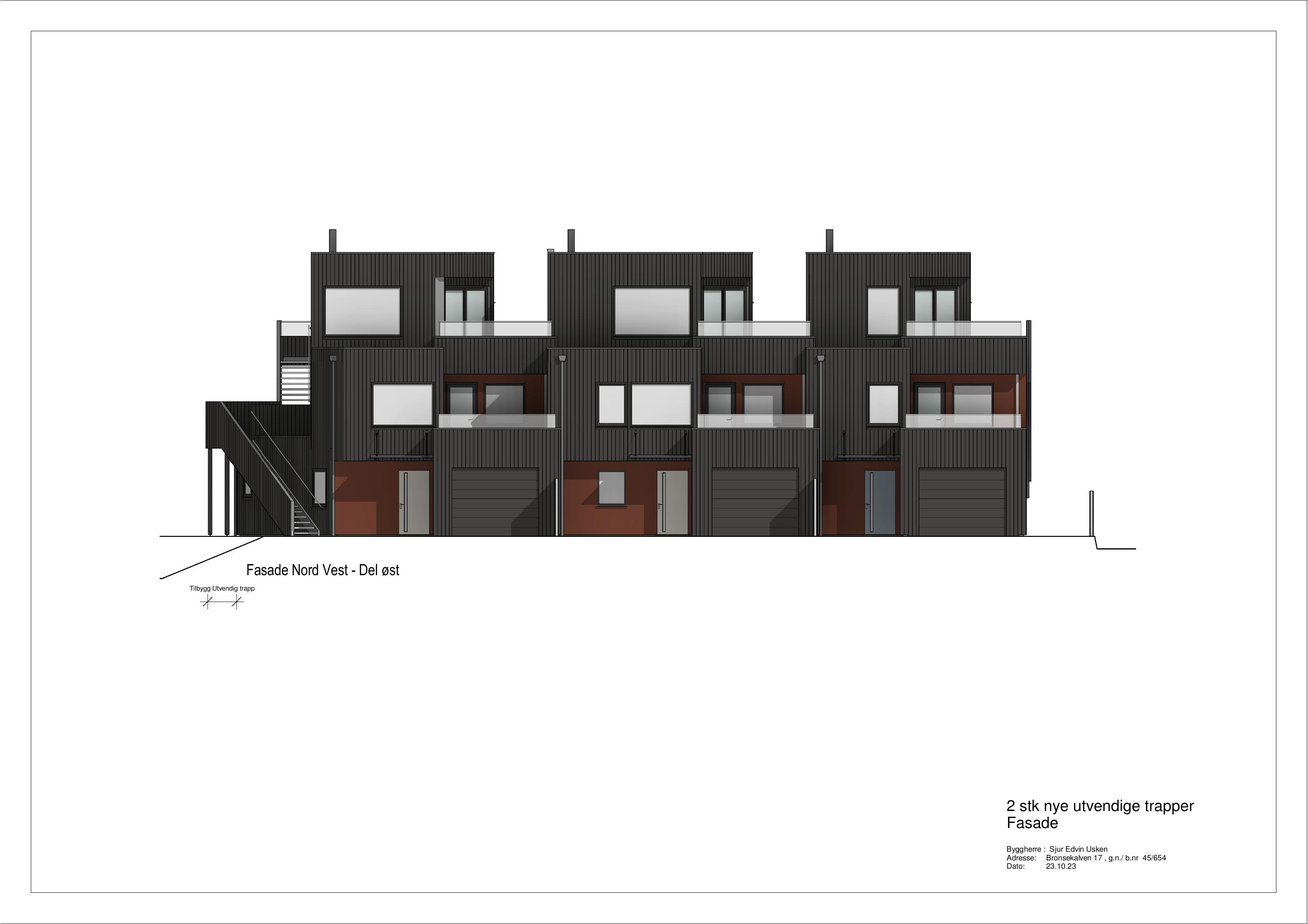fasade: (204, 227, 1096, 540)
